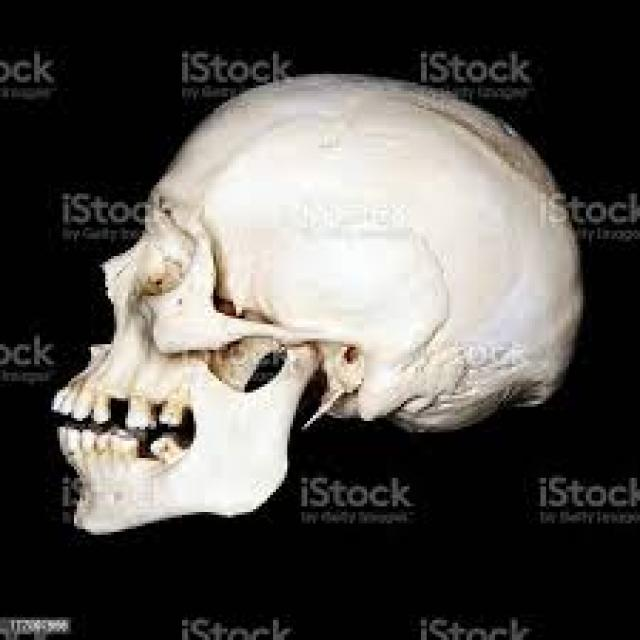skull: (37, 52, 602, 574)
